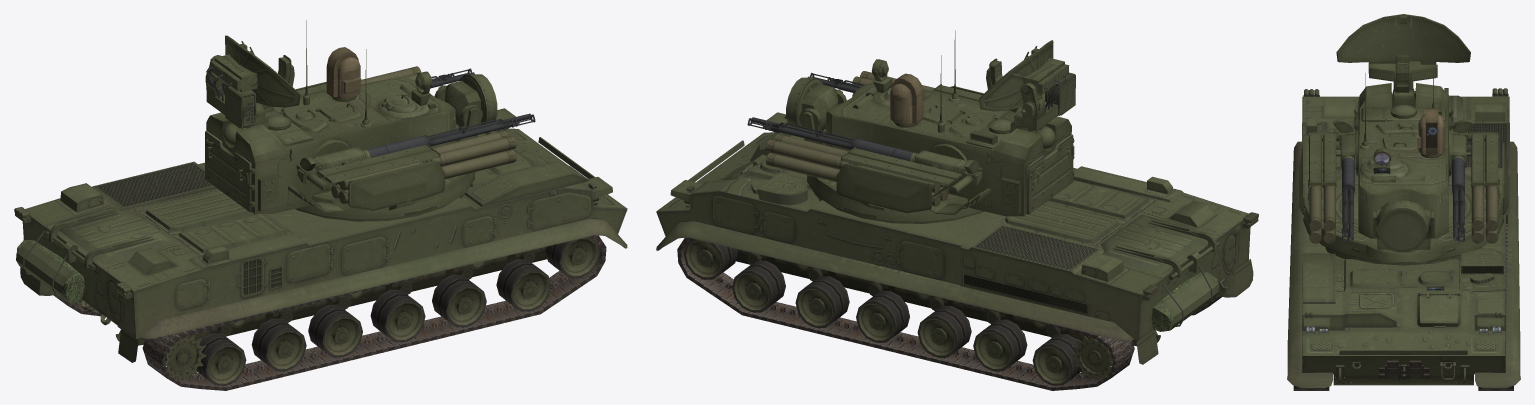
3 views of the same model, side by side, from view 1: azimuth 30°, elevation 25°; view 2: azimuth 150°, elevation 25°; view 3: azimuth 270°, elevation 25° (orthographic). The views are drawn at different scales.
Visible parts, largest first — view 1: hull, turret, skirts, track, radar, weapon2, weapon9, sensor, weapon7, wheel 40, tire21, tire22 (+18 smaller); view 2: hull, turret, skirts, track2, radar, weapon, weapon5, sensor, weapon3, wheel 30, tire18, tire15 (+17 smaller); view 3: hull, turret, skirts, radar, sensor, weapon, weapon2, weapon3, weapon5, weapon9, weapon7, hatch2 (+6 smaller).
Part boxes in pixels (x1,y1,x2,y2): hull: (15, 108, 627, 342); turret: (205, 47, 482, 221); skirts: (20, 218, 627, 362); track: (142, 235, 606, 390); radar: (205, 35, 300, 128); weapon2: (296, 113, 535, 192); weapon9: (325, 136, 516, 194); sensor: (445, 74, 497, 126); weapon7: (317, 130, 508, 184); wheel 40: (145, 334, 206, 381); tire21: (370, 289, 425, 342); tire22: (251, 318, 306, 371); hull: (656, 112, 1258, 342); turret: (799, 59, 1074, 223); skirts: (656, 221, 1253, 364); track2: (677, 237, 1134, 390); radar: (979, 40, 1075, 130); weapon: (747, 117, 982, 195); weapon5: (766, 139, 954, 197); sensor: (786, 77, 837, 129); weapon3: (773, 134, 962, 187); wheel 30: (1071, 335, 1131, 381); tire18: (795, 276, 849, 328); tire15: (973, 319, 1027, 371); hull: (1302, 88, 1509, 385); turret: (1299, 81, 1508, 265); skirts: (1287, 141, 1520, 387); radar: (1336, 14, 1470, 92); sensor: (1376, 200, 1428, 251); weapon: (1451, 119, 1498, 241); weapon2: (1308, 119, 1355, 241); weapon3: (1466, 134, 1484, 230); weapon5: (1485, 134, 1499, 231); weapon9: (1308, 134, 1322, 231); weapon7: (1322, 134, 1340, 225); hatch2: (1350, 267, 1400, 287).
Bounding box in the file's own units: 8.21 × 4.25 × 3.42.
Materials: 5 (5 with a texture image).
